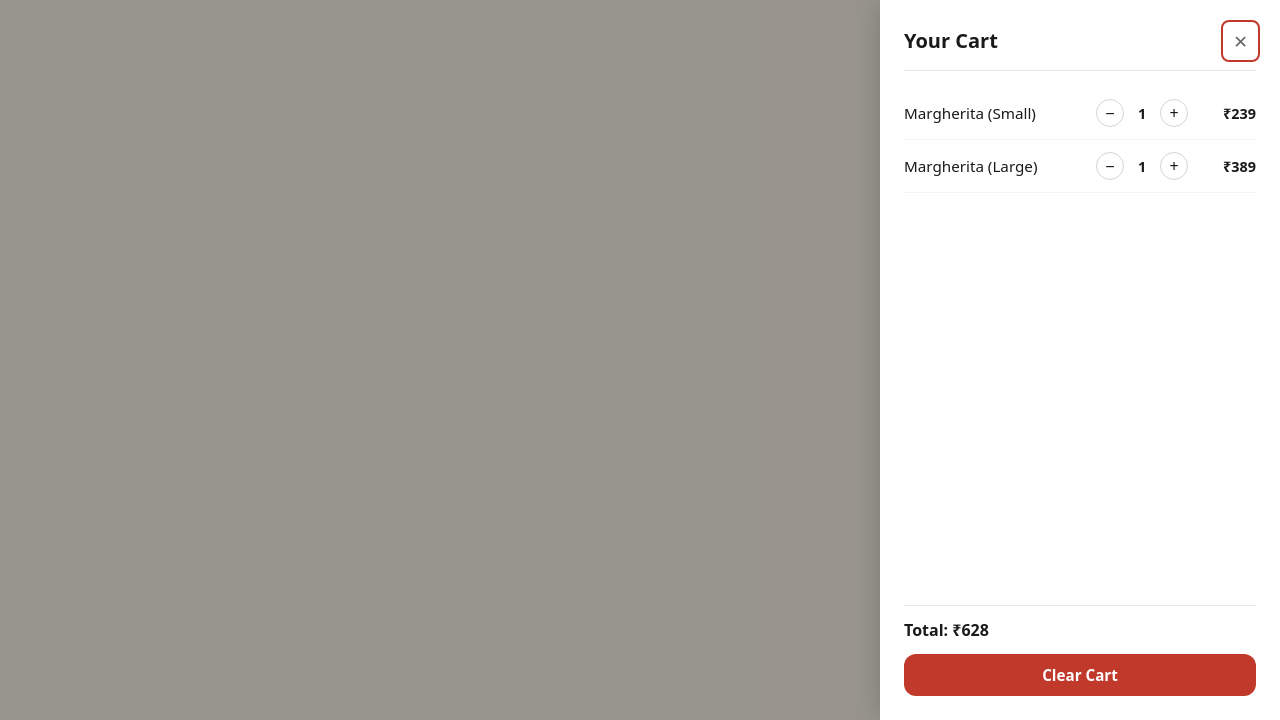
Test: CartPanel – + / − controls › clicking − on one size line does not affect another size line
Click the button named "decrease quantity of margherita (small)" at (1110, 113), box x1=1096 y1=99 x2=1124 y2=127
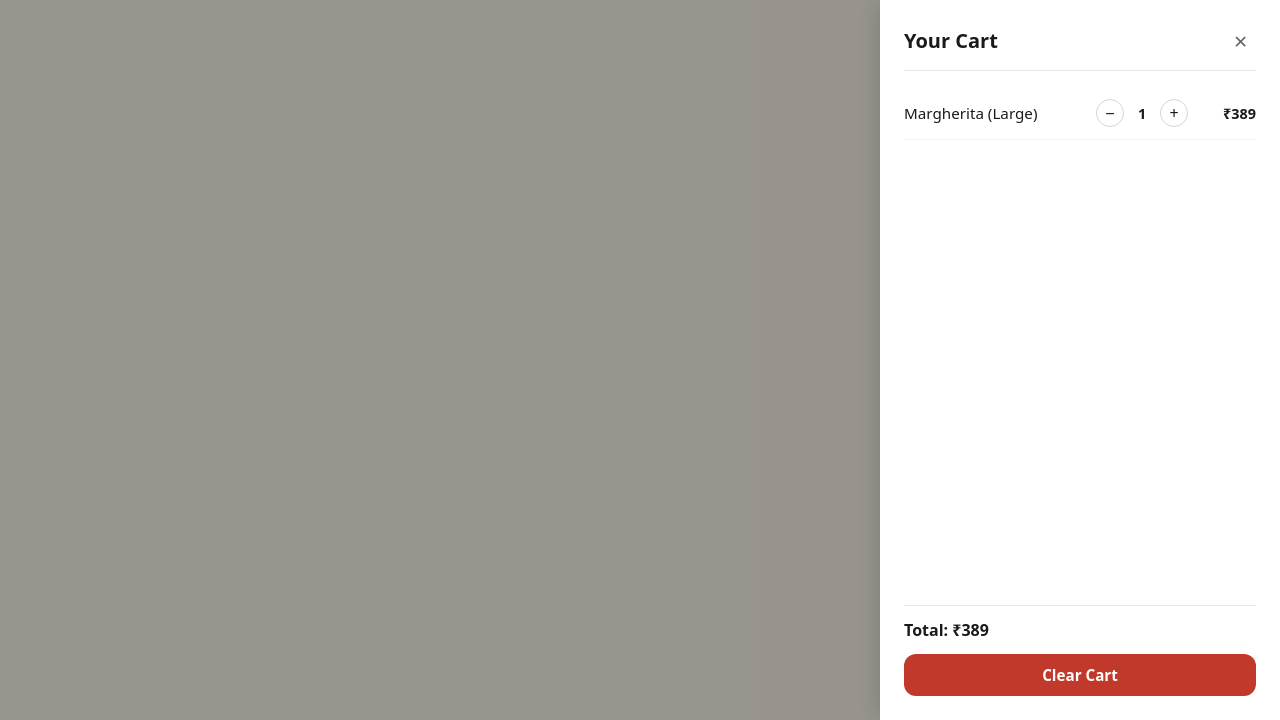
expect the text "Margherita (Large)" is shown: met, box x1=904 y1=103 x2=1038 y2=123
expect the text "Margherita (Small)" is gone: met
